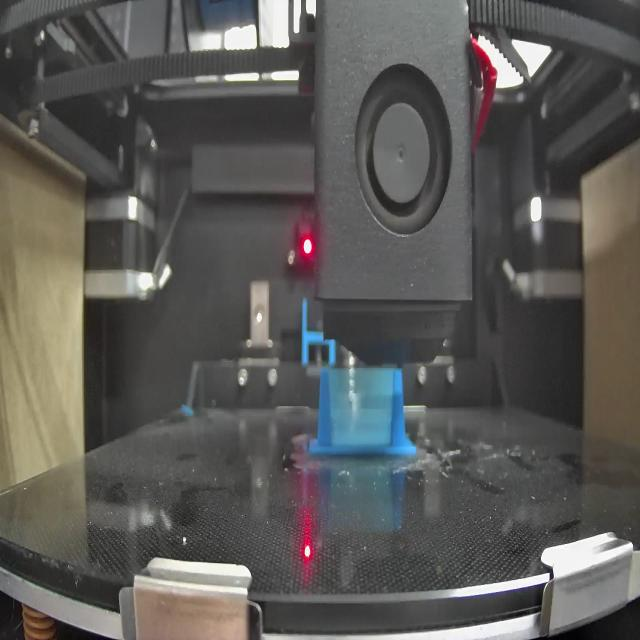stringing: (333, 371, 392, 444)
